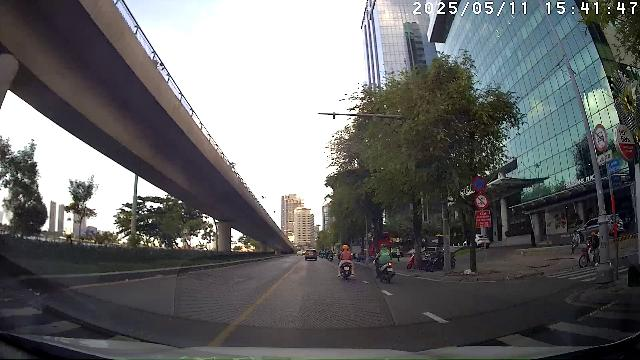103a-cam-oto: (593, 124, 608, 151)
130-cam-dung-va-do-xe: (471, 175, 487, 192)
